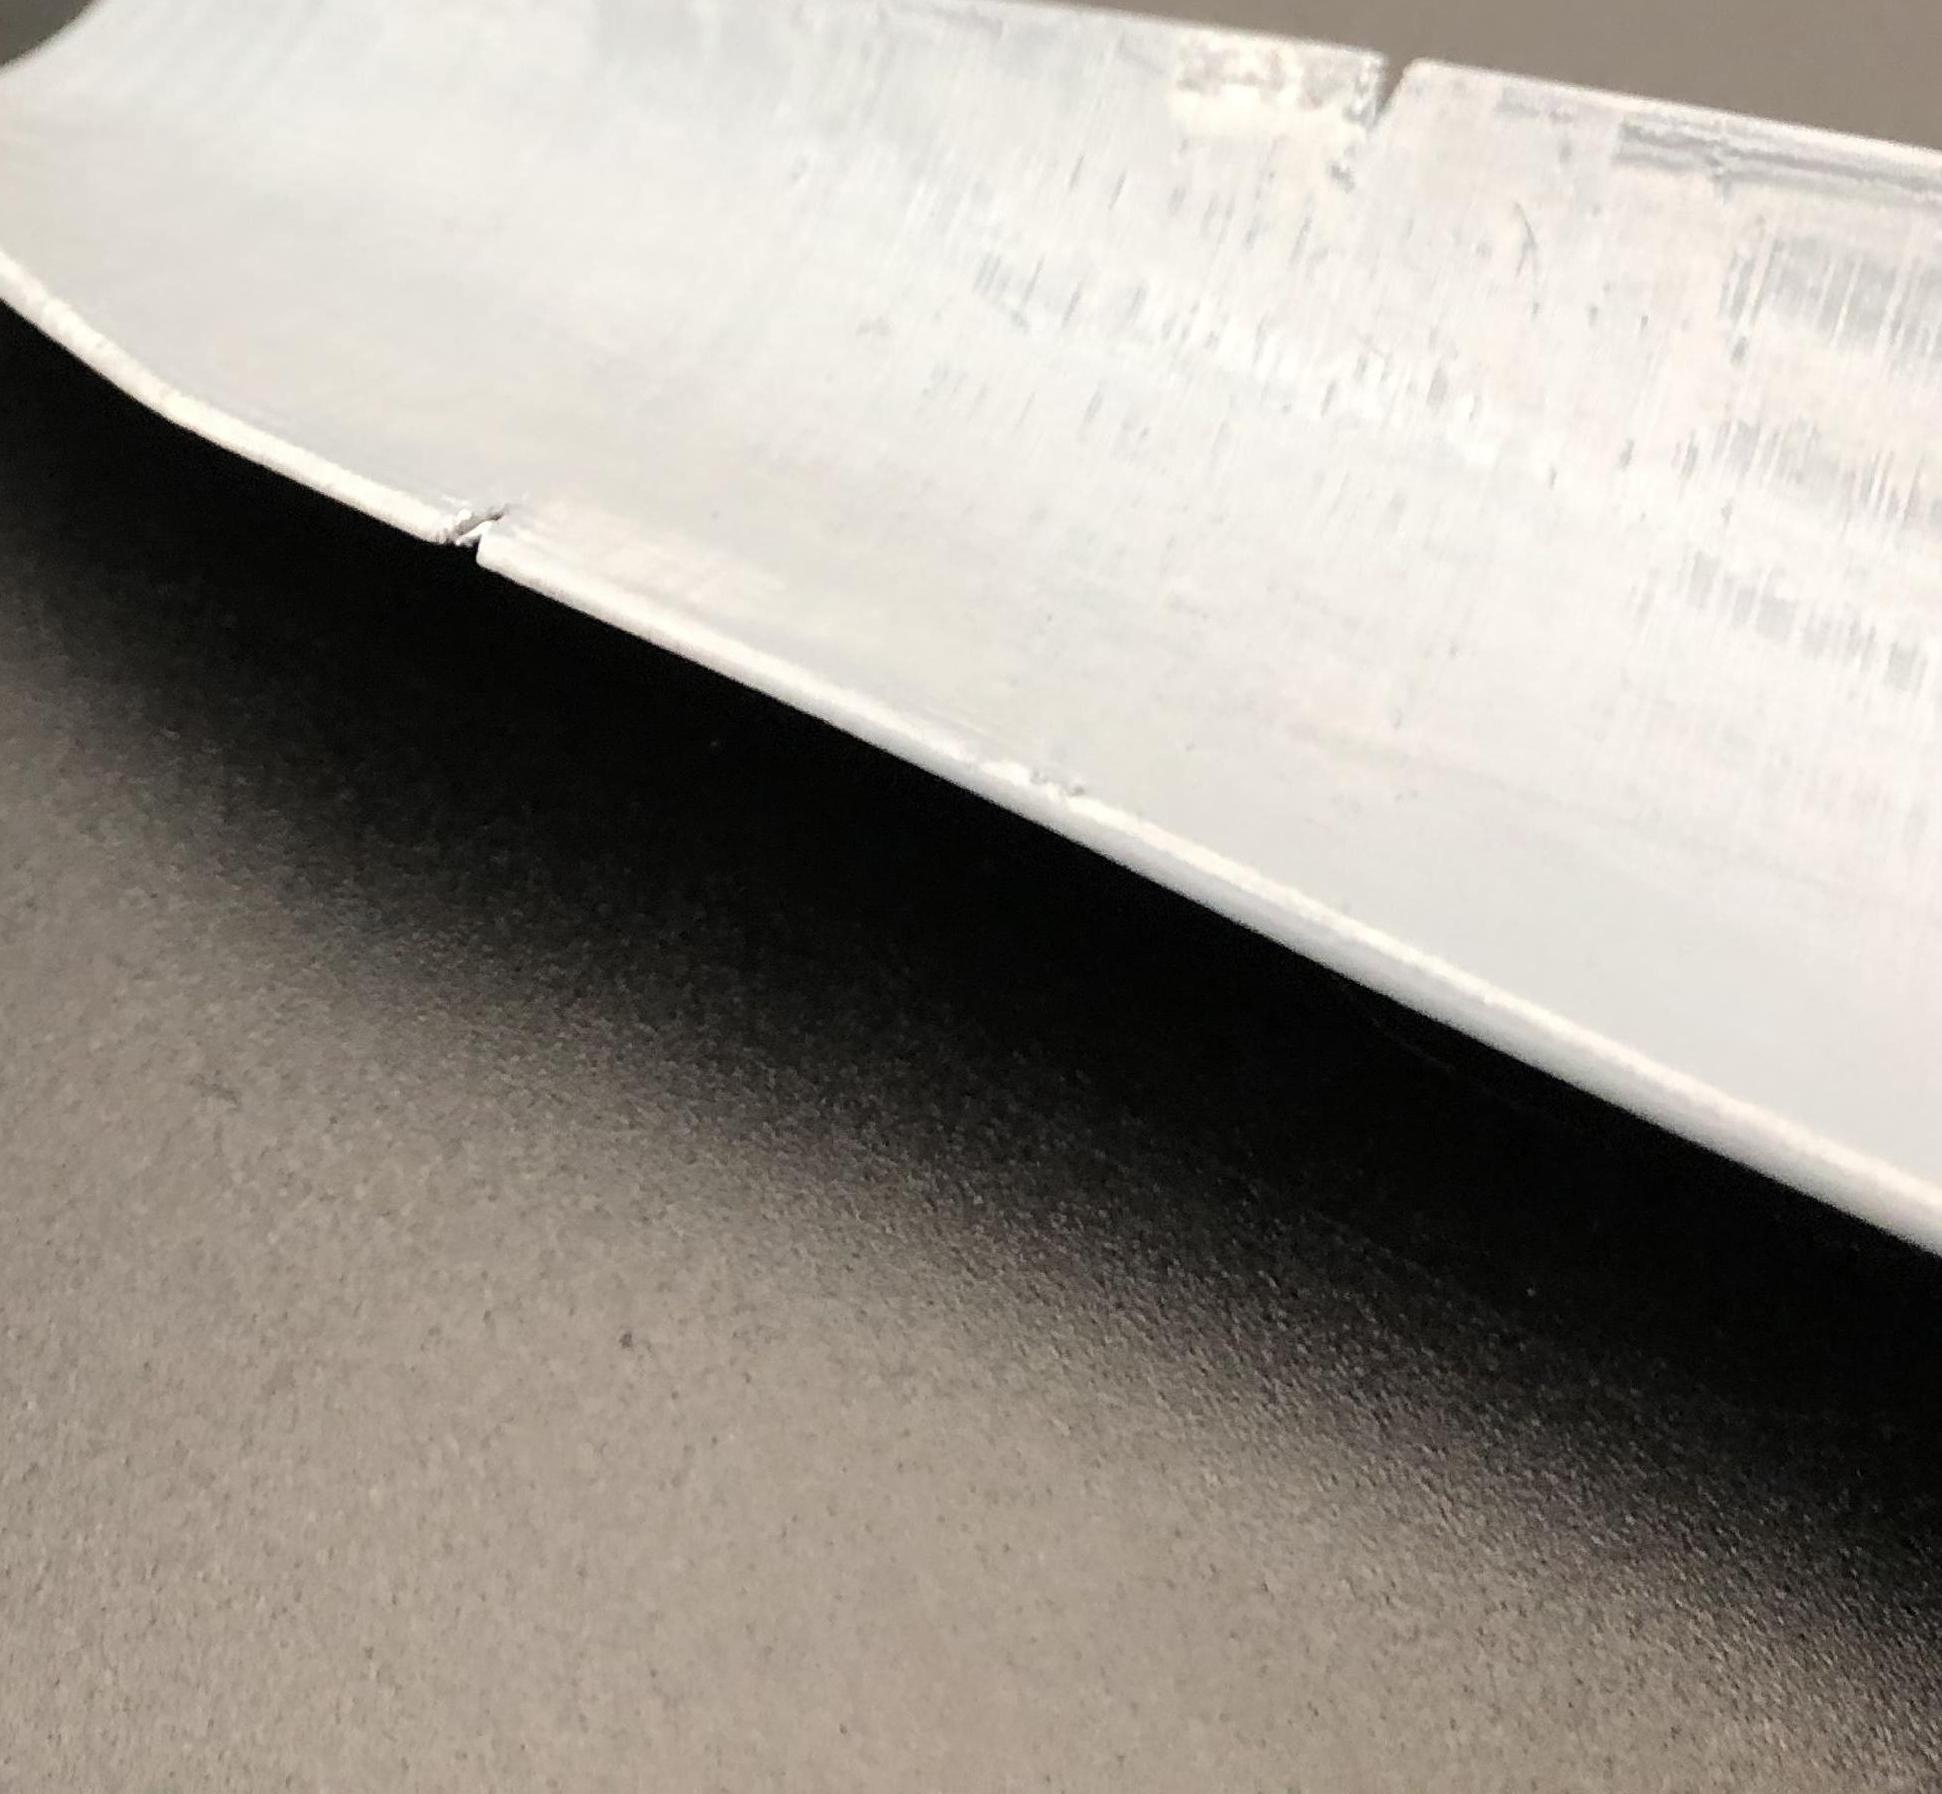groove: (1338, 44, 1445, 129), (421, 499, 553, 566)
